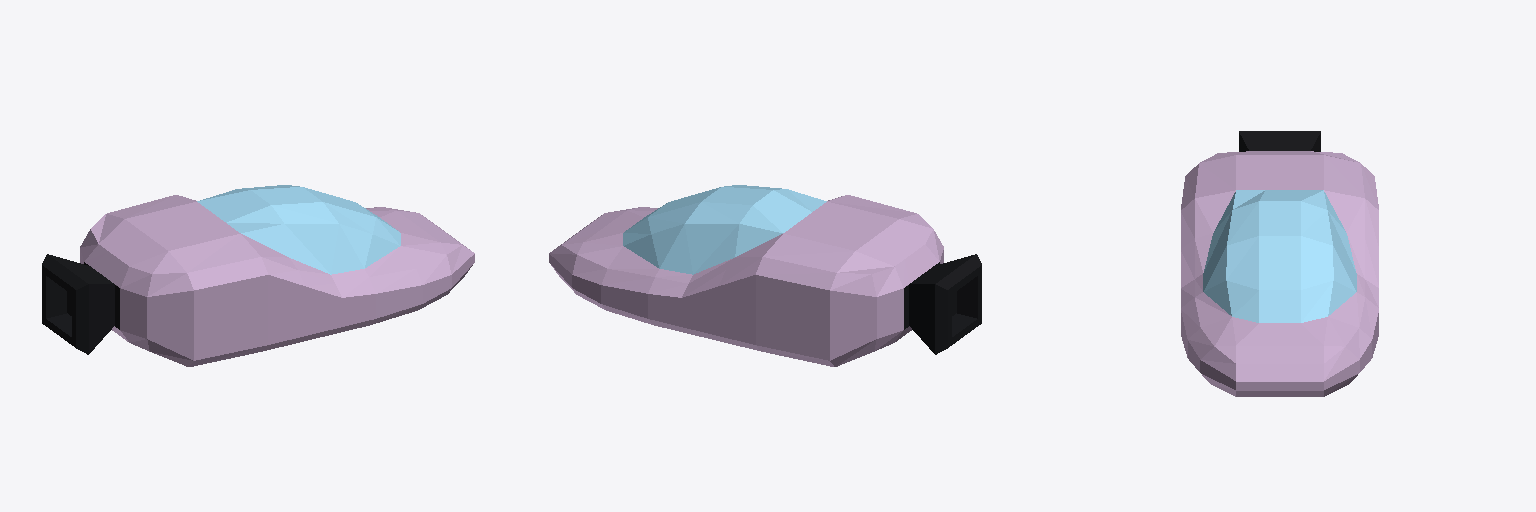
3 views of the same model, side by side, from view 1: azimuth 30°, elevation 25°; view 2: azimuth 150°, elevation 25°; view 3: azimuth 270°, elevation 25° (orthographic).
Visible parts, largest first — view 1: Cube; view 2: Cube; view 3: Cube.
Boxes of the visible parts, x1,y1,x2,y2 form: Cube: [42, 185, 474, 366]; Cube: [549, 185, 981, 366]; Cube: [1181, 131, 1378, 396].
Size of the model in its own units: 9.51 by 2.64 by 4.16.
1 materials, 1 textured.